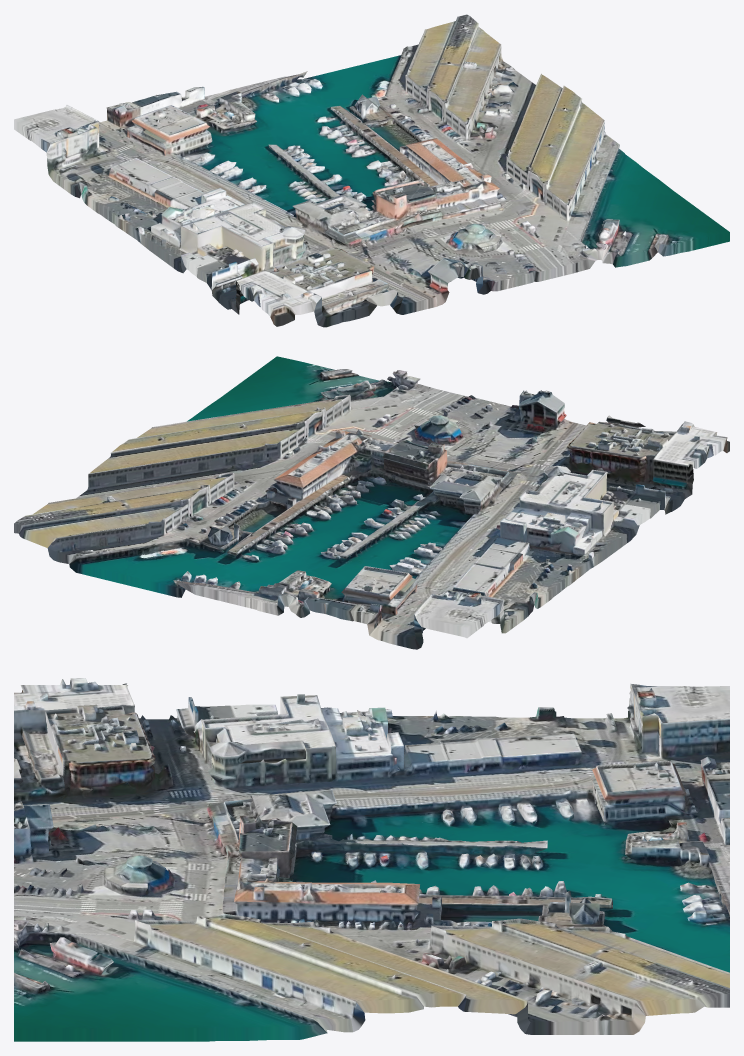
File: z17-20965-50646-h0-yup-uvflip-v3-world.glb
3 views of the same model, one above another, from view 1: azimuth 30°, elevation 25°; view 2: azimuth 150°, elevation 25°; view 3: azimuth 270°, elevation 25° (orthographic). The views are drawn at different scales.
Size of the model in its own units: 241 by 23.36 by 243.
Materials: 1 (1 with a texture image).
